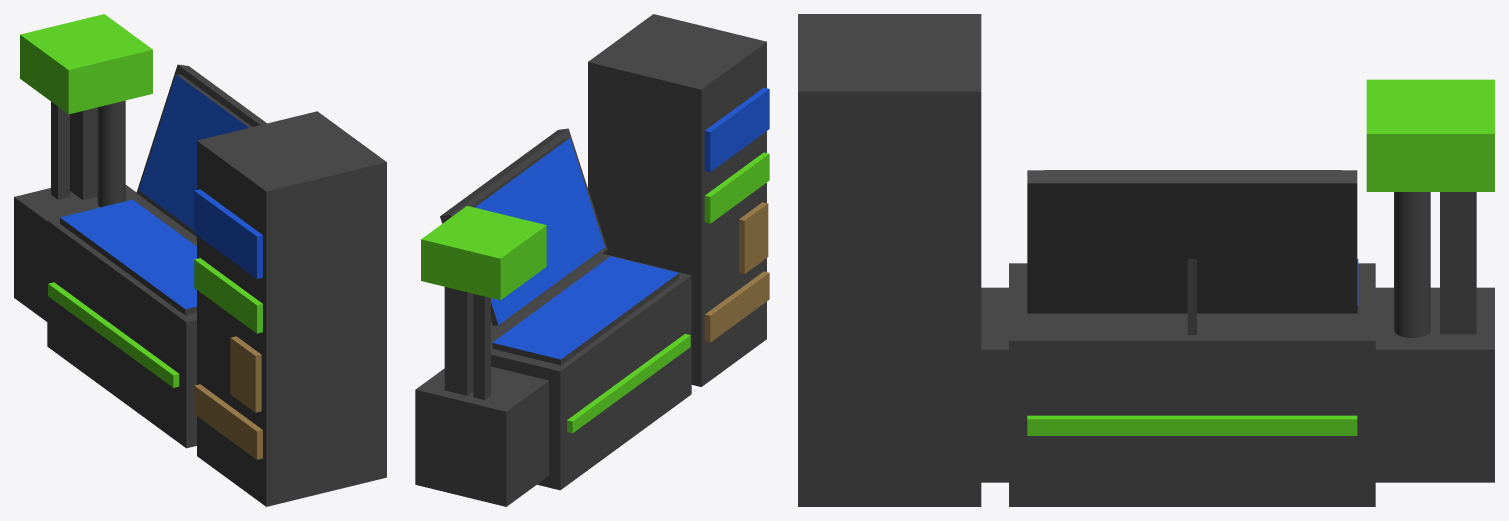
File: comunicablo.fbx
The picture shows the model from 3 angles, left to right: view 1: azimuth 30°, elevation 25°; view 2: azimuth 150°, elevation 25°; view 3: azimuth 270°, elevation 25°; orthographic projection. The views are drawn at different scales.
Visible parts, largest first — view 1: Cylinder; view 2: Cylinder; view 3: Cylinder.
Part boxes in pixels (x1,y1,x2,y2): Cylinder: (14, 14, 386, 506); Cylinder: (415, 14, 769, 506); Cylinder: (798, 14, 1494, 506).
Bounding box in the file's own units: 234 × 500 × 760.
